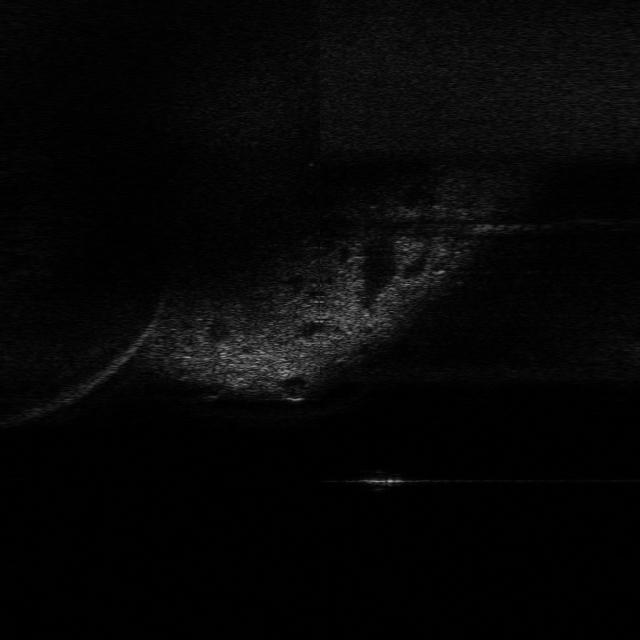cube: (353, 466, 408, 492)
